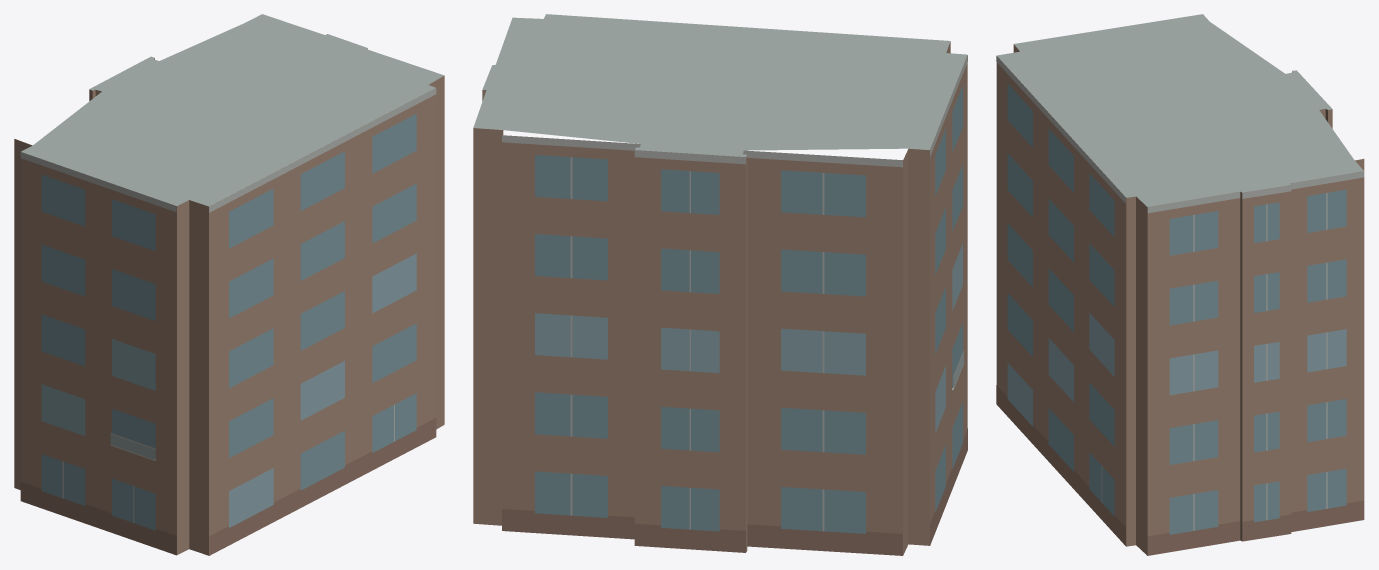
File: survey-upis-32837735.glb
3 renders of one model, left to right at view 1: azimuth 30°, elevation 25°; view 2: azimuth 150°, elevation 25°; view 3: azimuth 270°, elevation 25°, orthographic. The views are drawn at different scales.
Visible parts, largest first — view 1: survey-upis-32837735.tmp; view 2: survey-upis-32837735.tmp; view 3: survey-upis-32837735.tmp.
Part boxes in pixels (x1,y1,x2,y2): survey-upis-32837735.tmp: (14, 14, 444, 555); survey-upis-32837735.tmp: (473, 14, 967, 555); survey-upis-32837735.tmp: (996, 14, 1364, 555).
Bounding box in the file's own units: 16.04 × 13.5 × 12.92.
